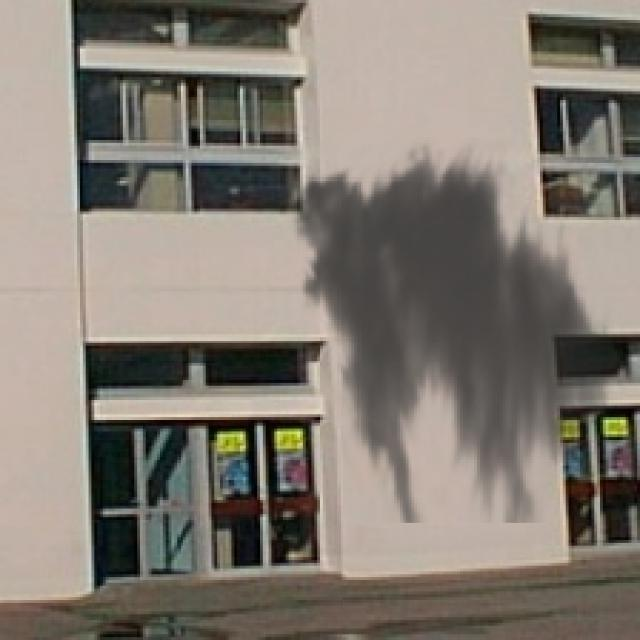Smoke: (277, 137, 629, 523)
